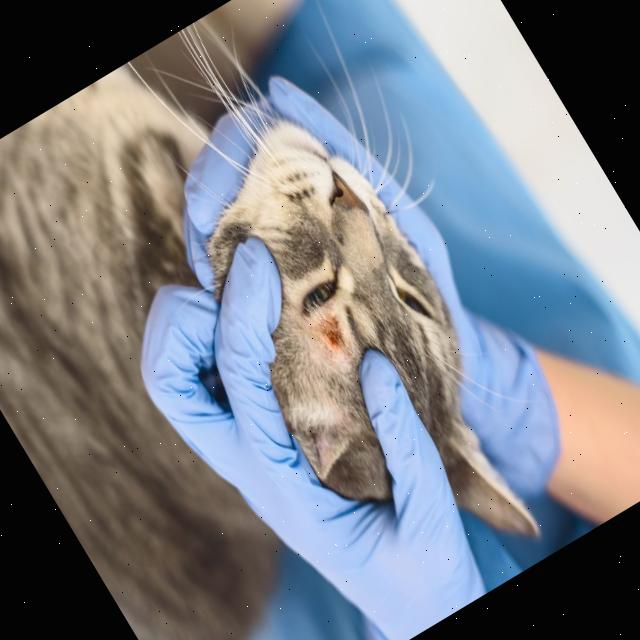cat-ringworm: (306, 302, 364, 372)
